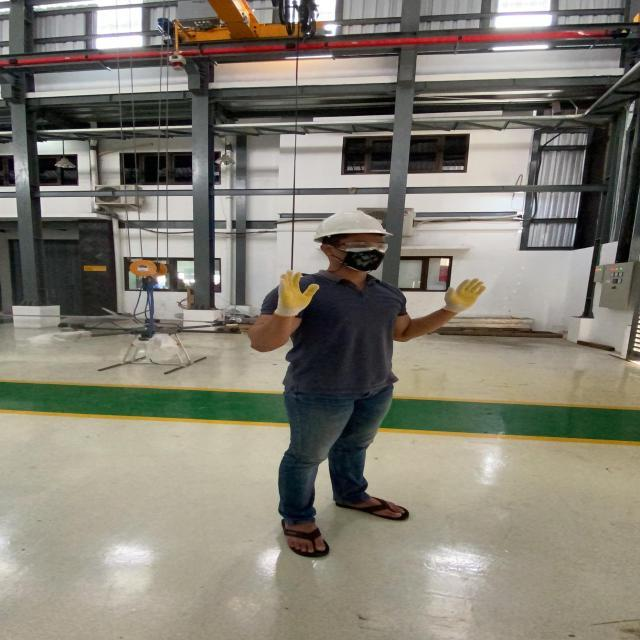glasses: (324, 239, 392, 253)
